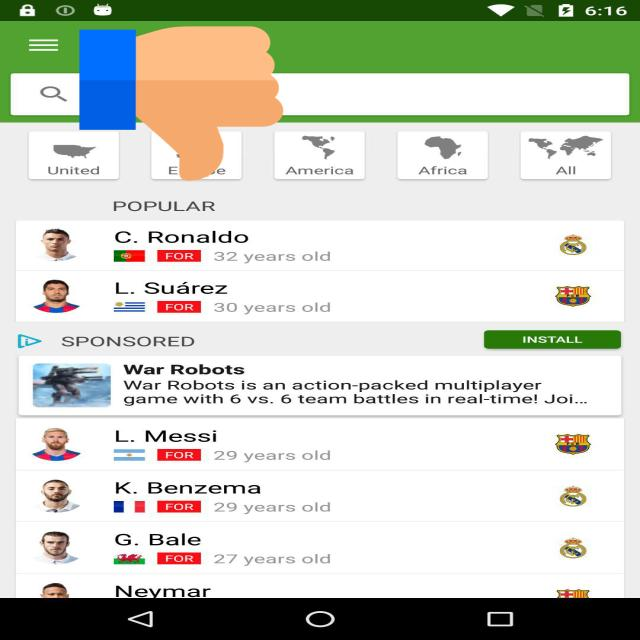obstruction: (80, 22, 284, 184)
